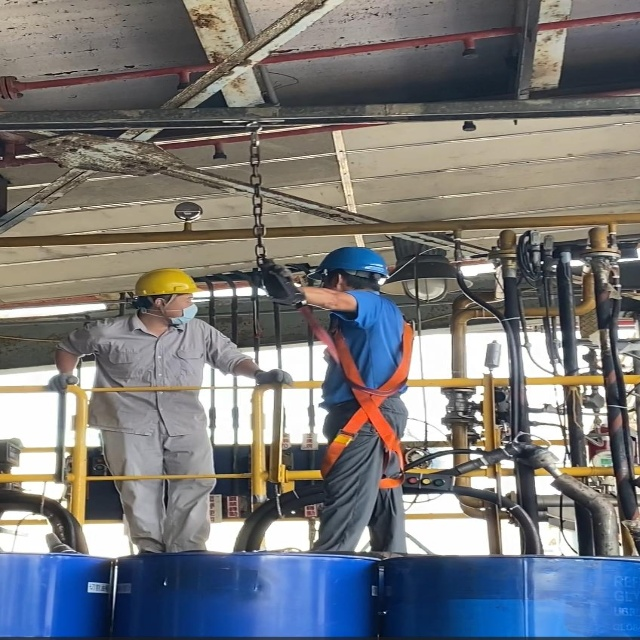Arnes_seguridad: (318, 300, 418, 496)
